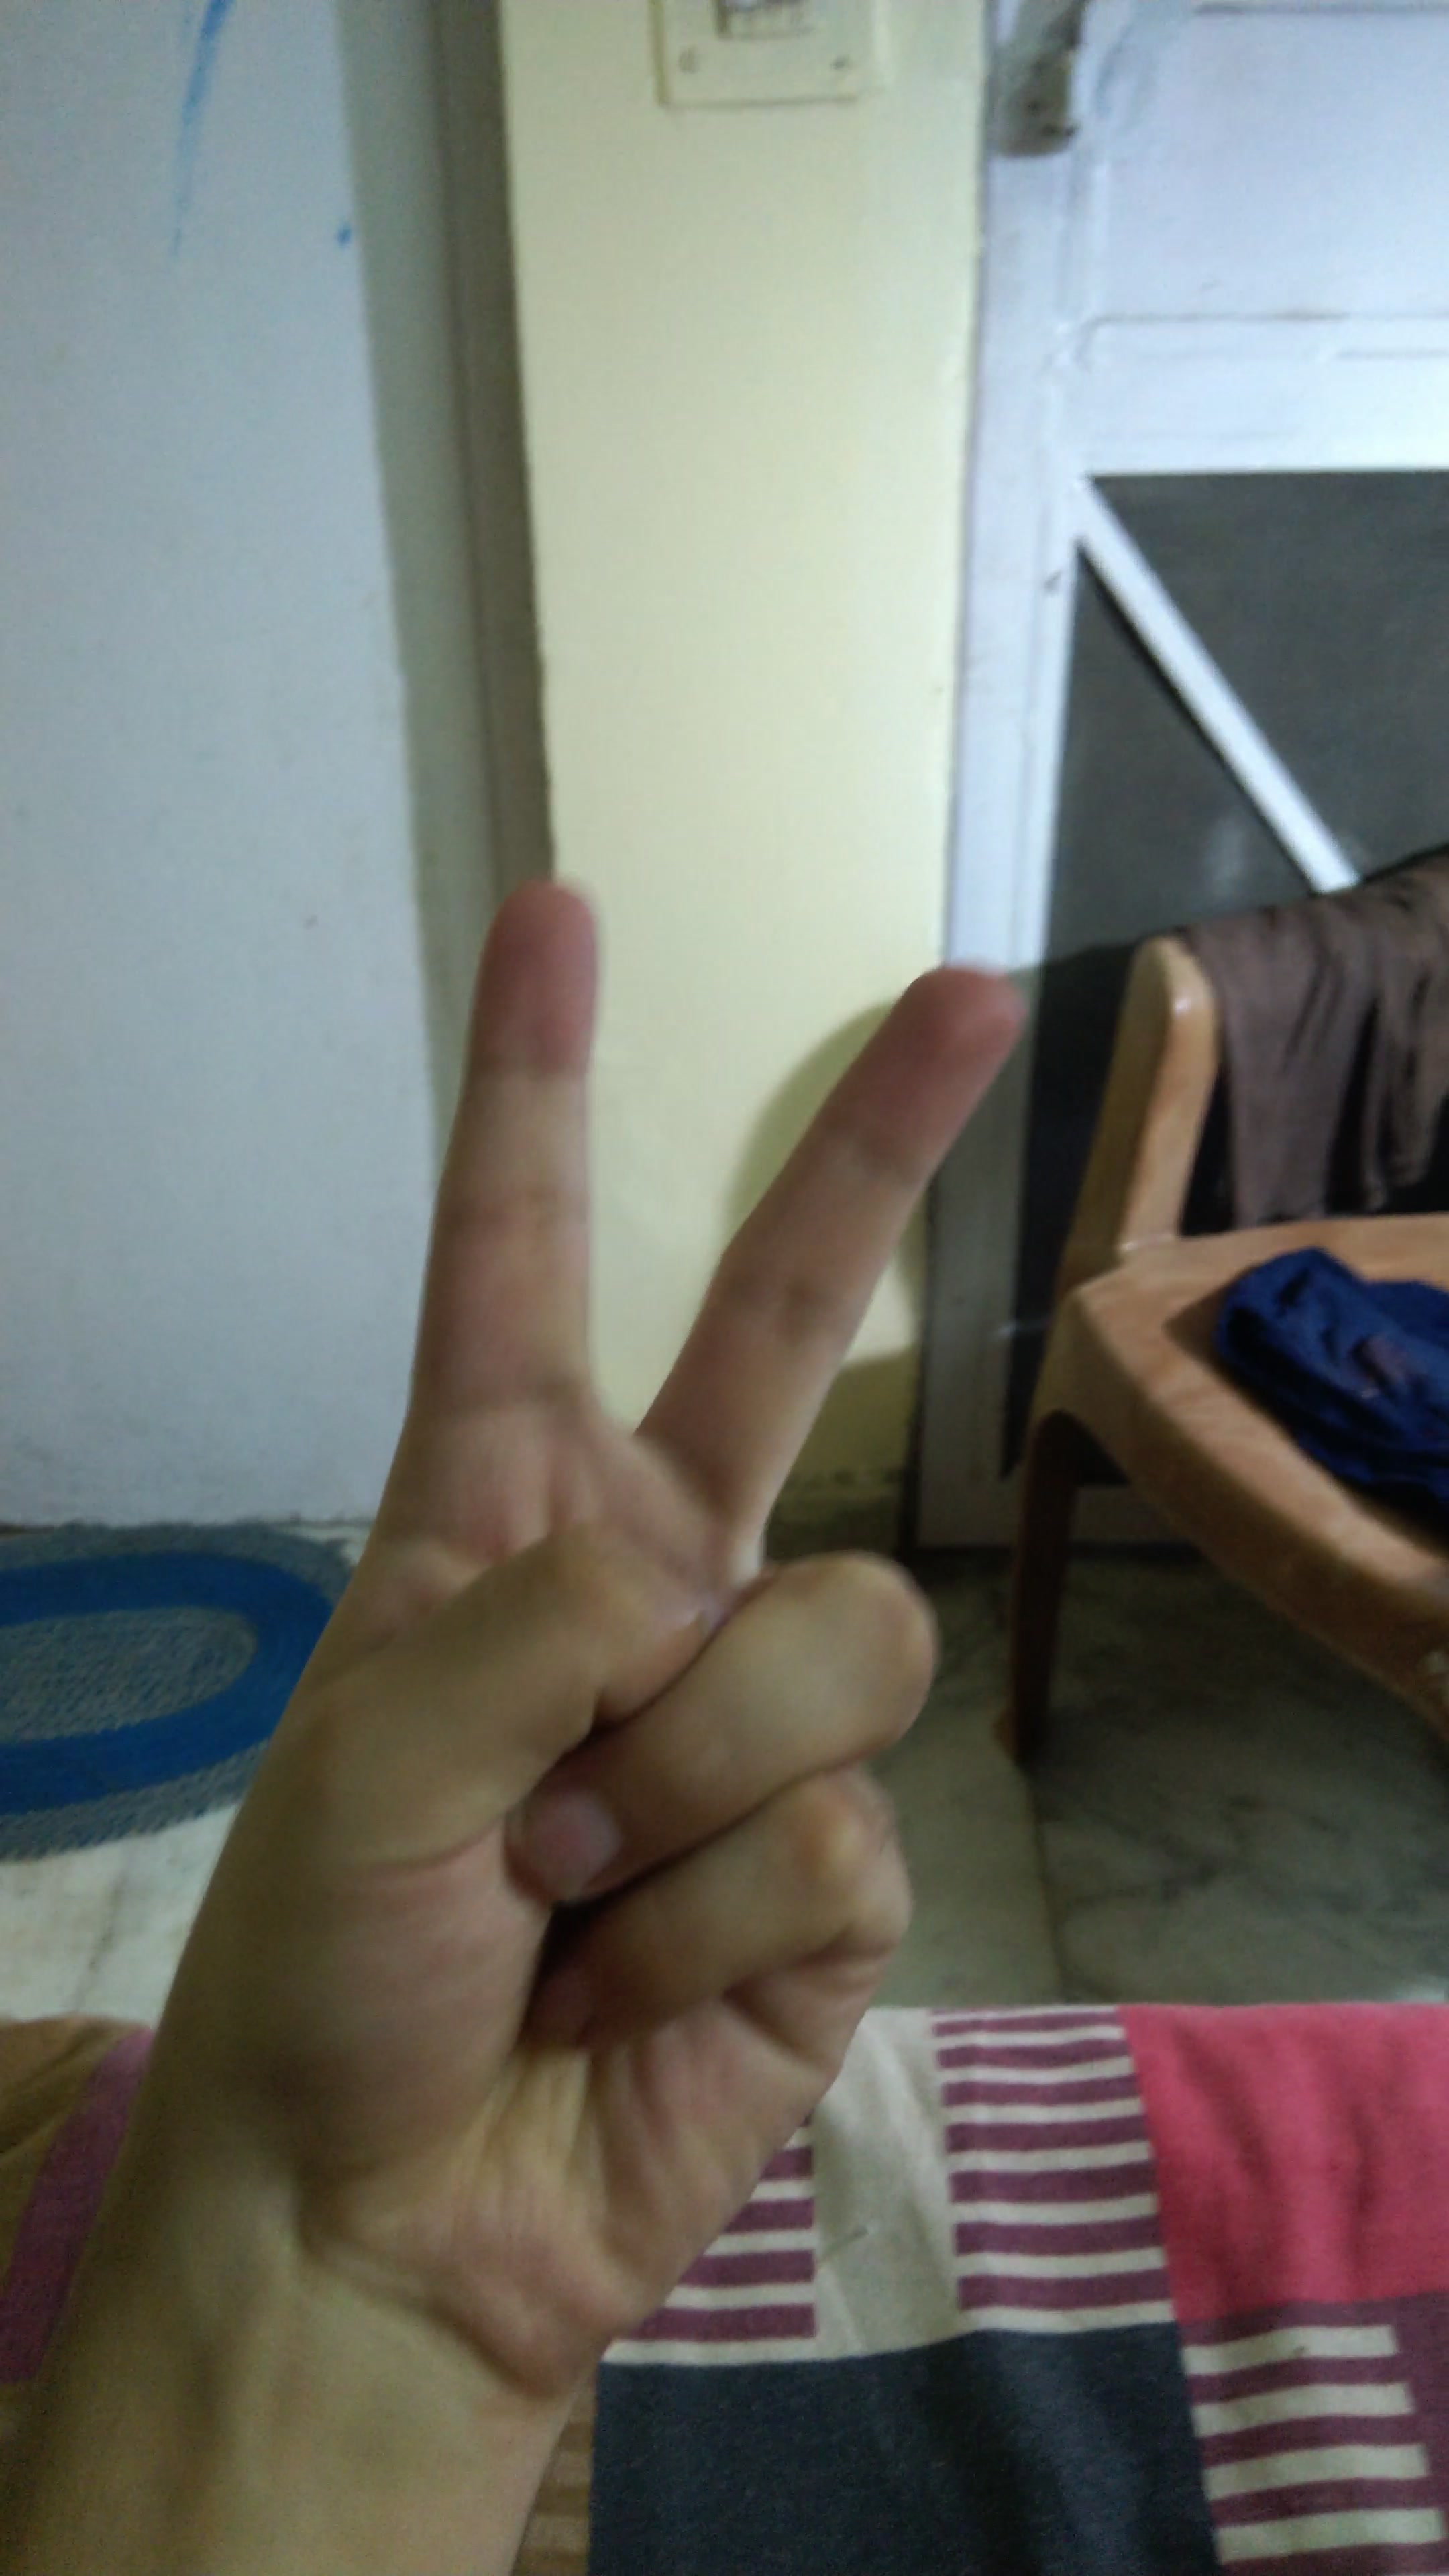hand: (133, 823, 1054, 2387)
